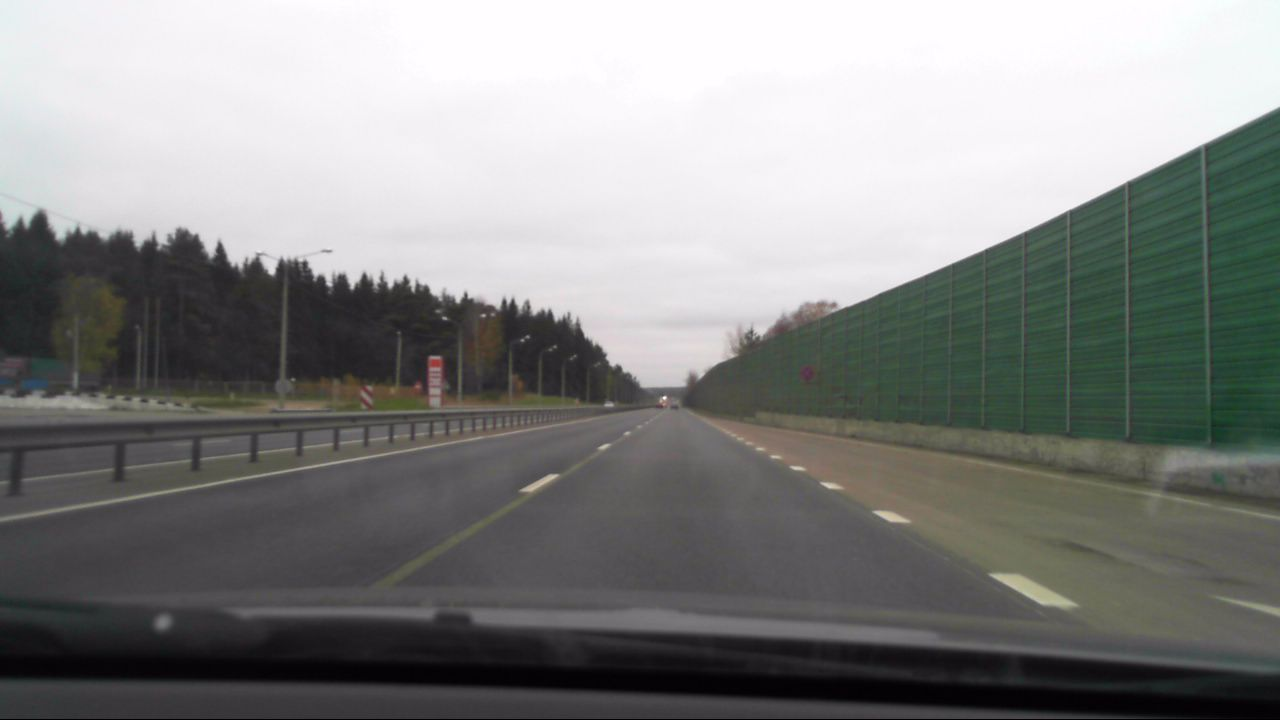No Parking: (797, 363, 818, 385)
